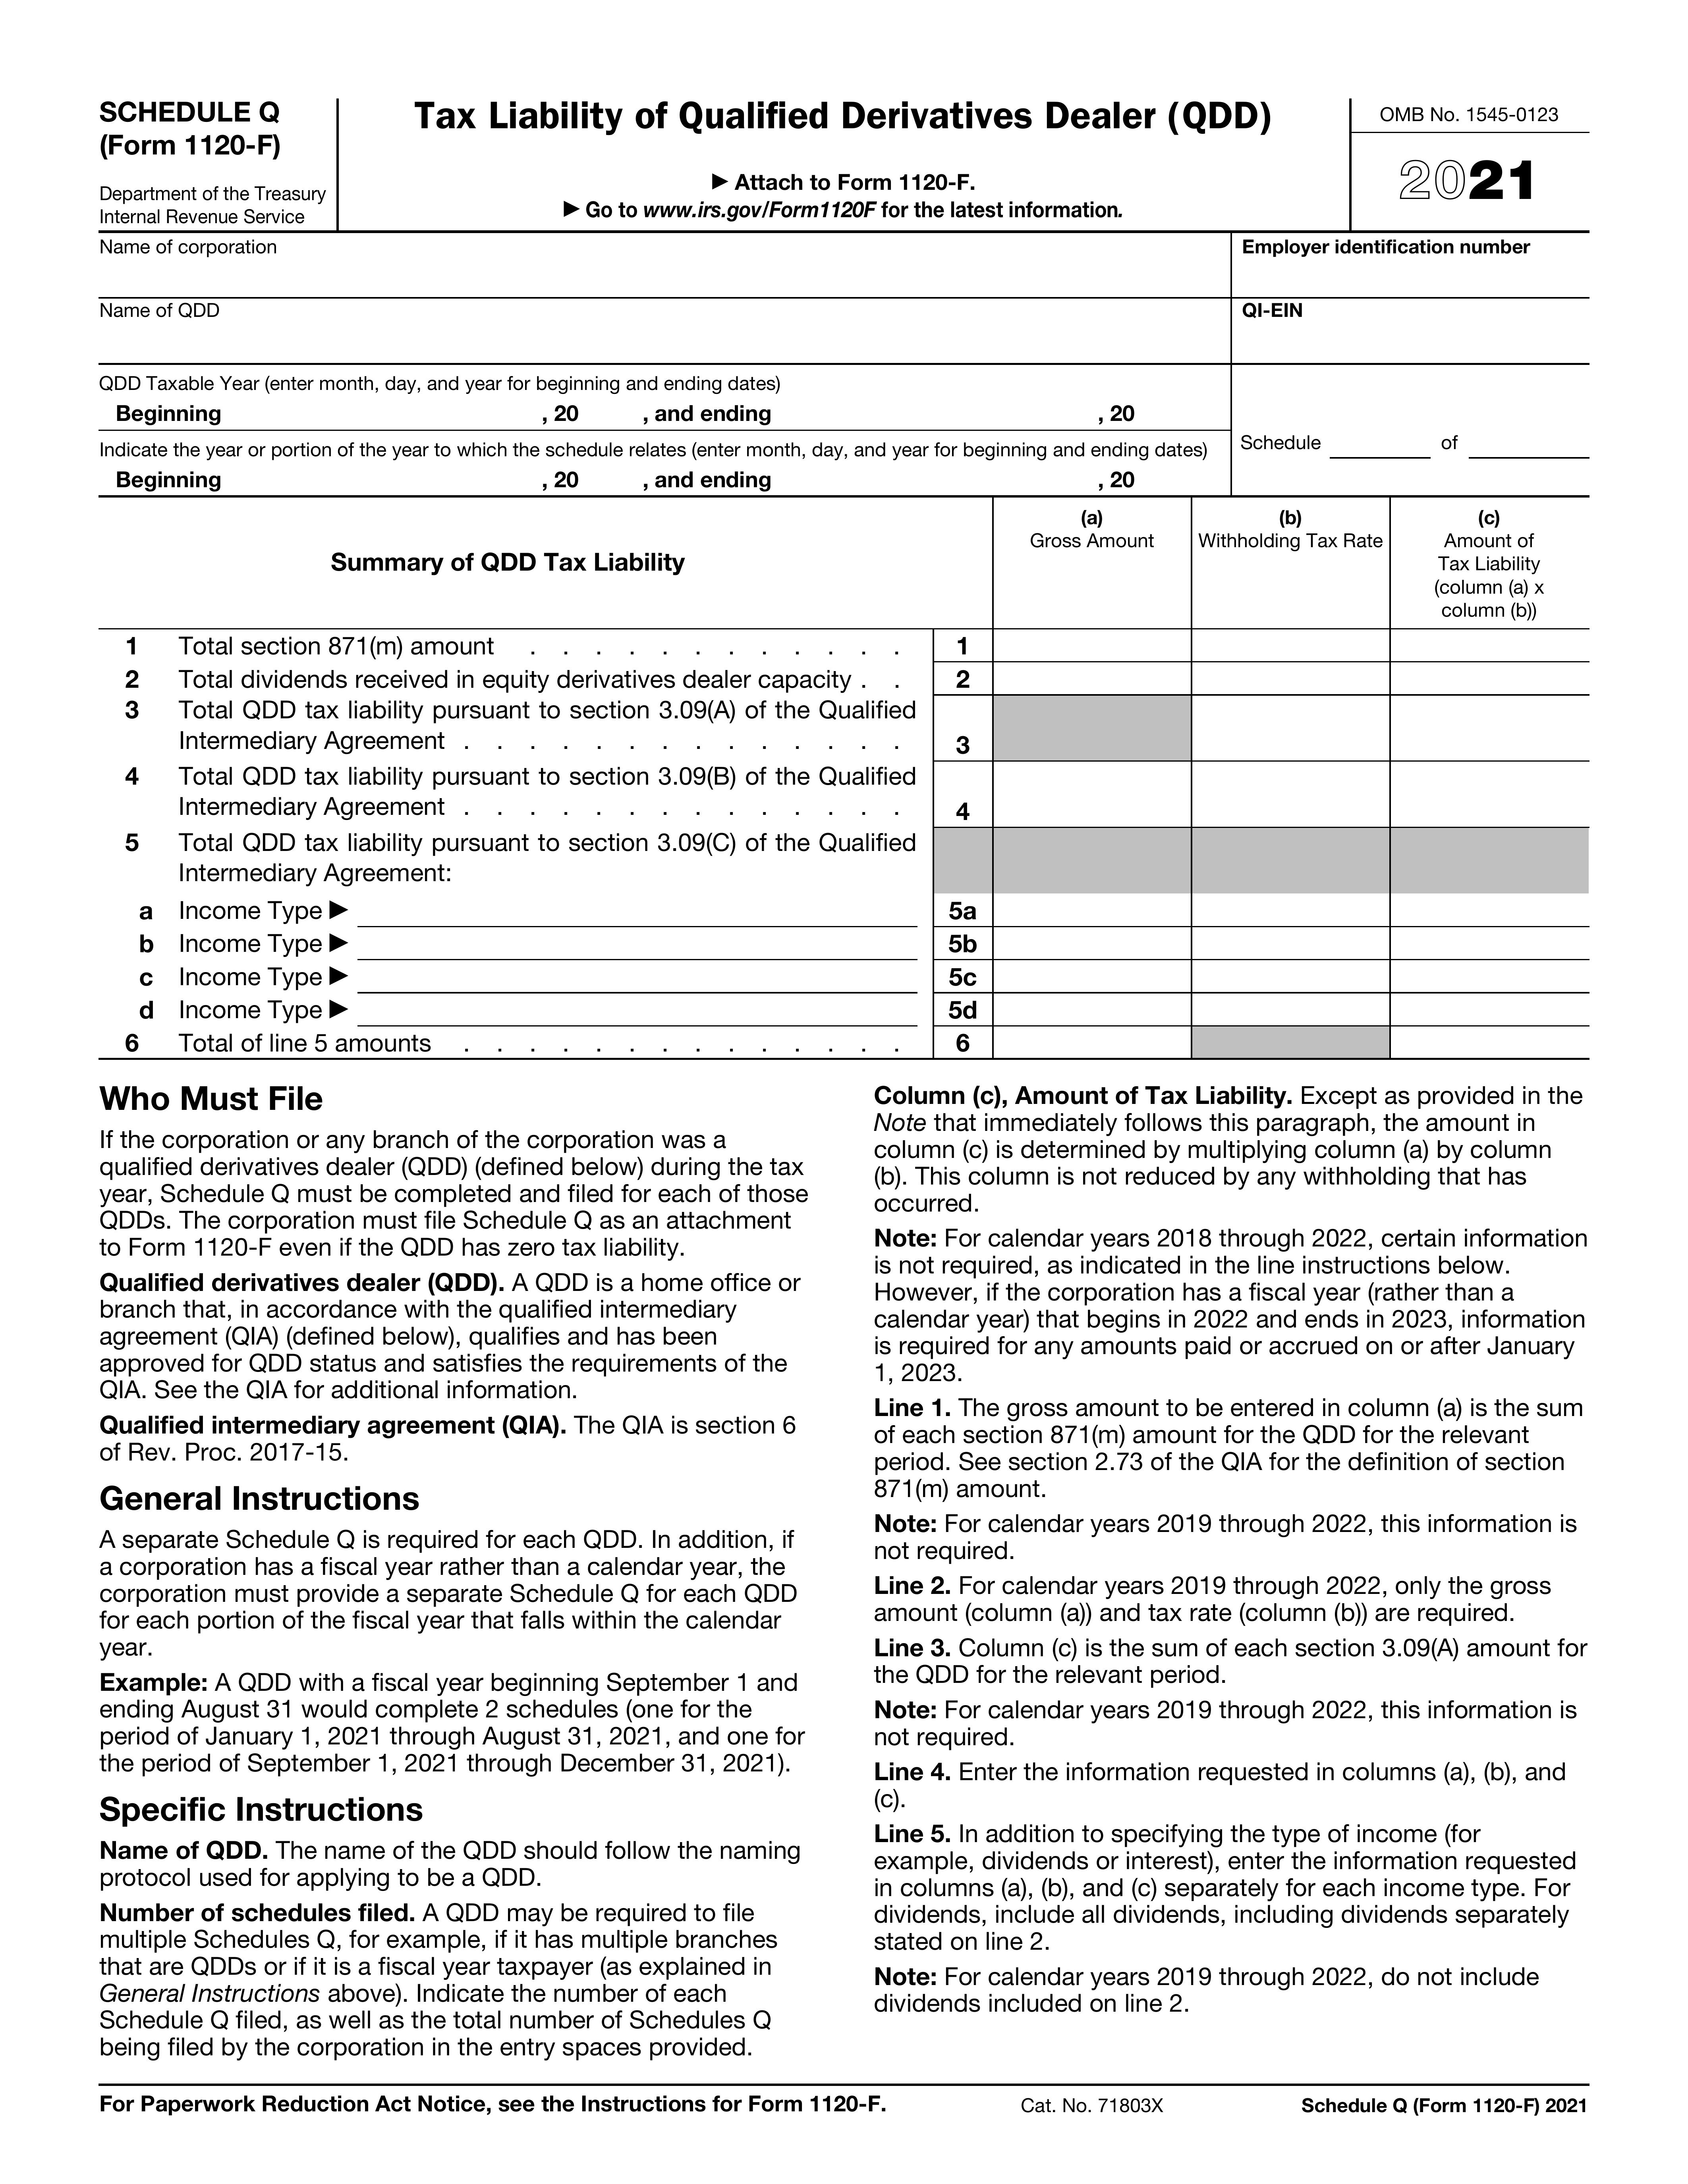form: (76, 78, 1605, 498)
table: (73, 493, 1605, 1073)
